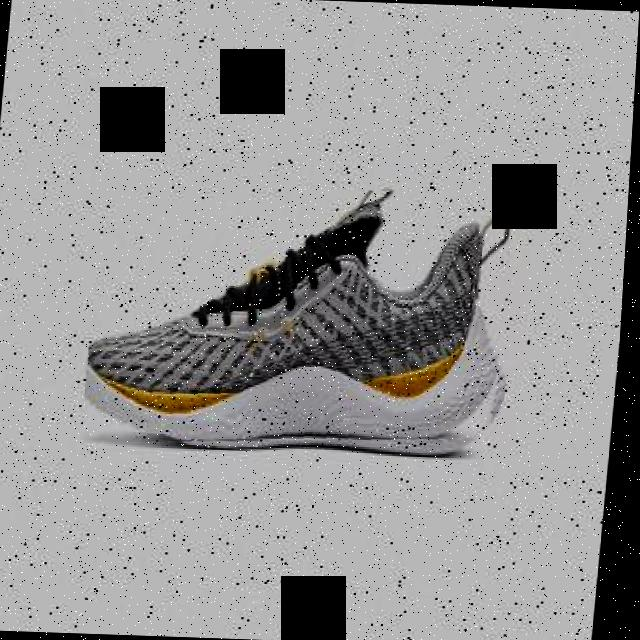shoe: (84, 180, 528, 458)
